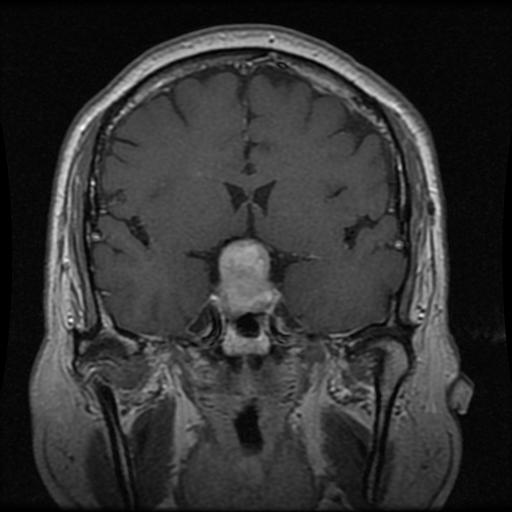Pituirity_tumour: (218, 237, 271, 355)
